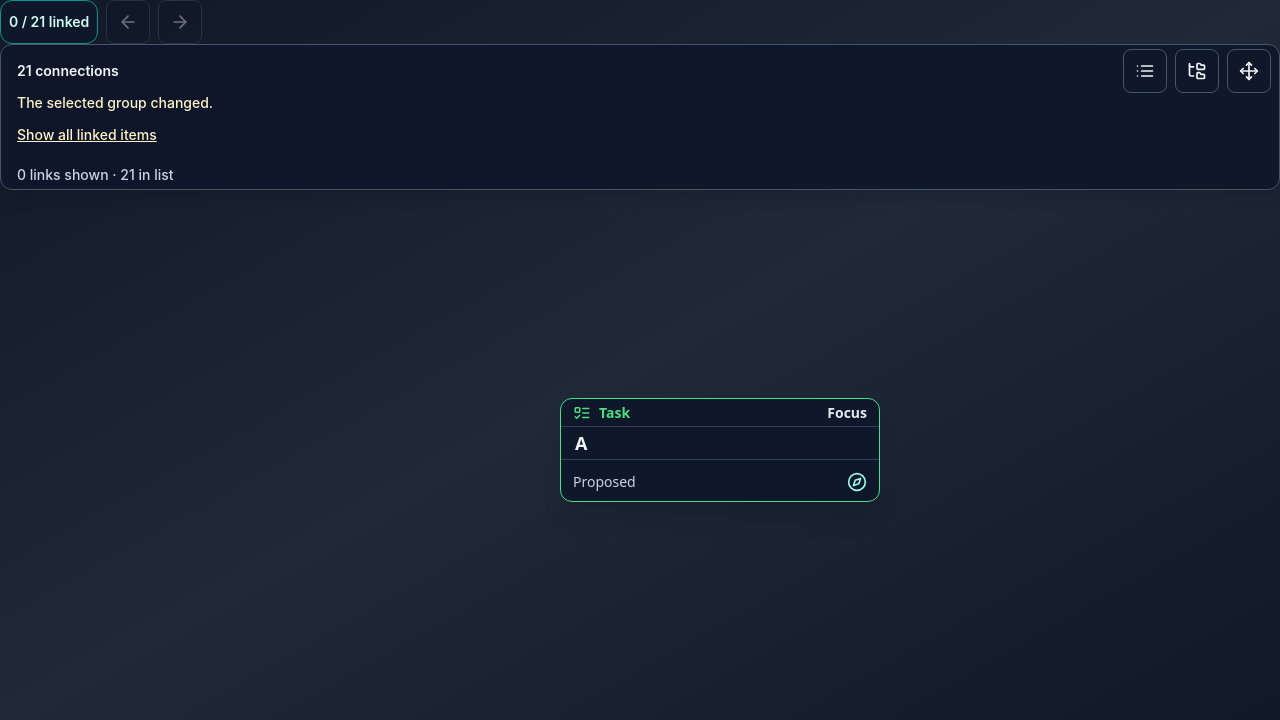
offers a direct reset after a persisted filter disappears and only one new group remains
The width and height of the screenshot is (1280, 720).
Expected: the label named "Linked item group" is shown, top-left (1175, 49), bottom-right (1219, 93)
Click the button "Show all linked items" at (87, 135), box top-left (17, 113), bottom-right (157, 157)
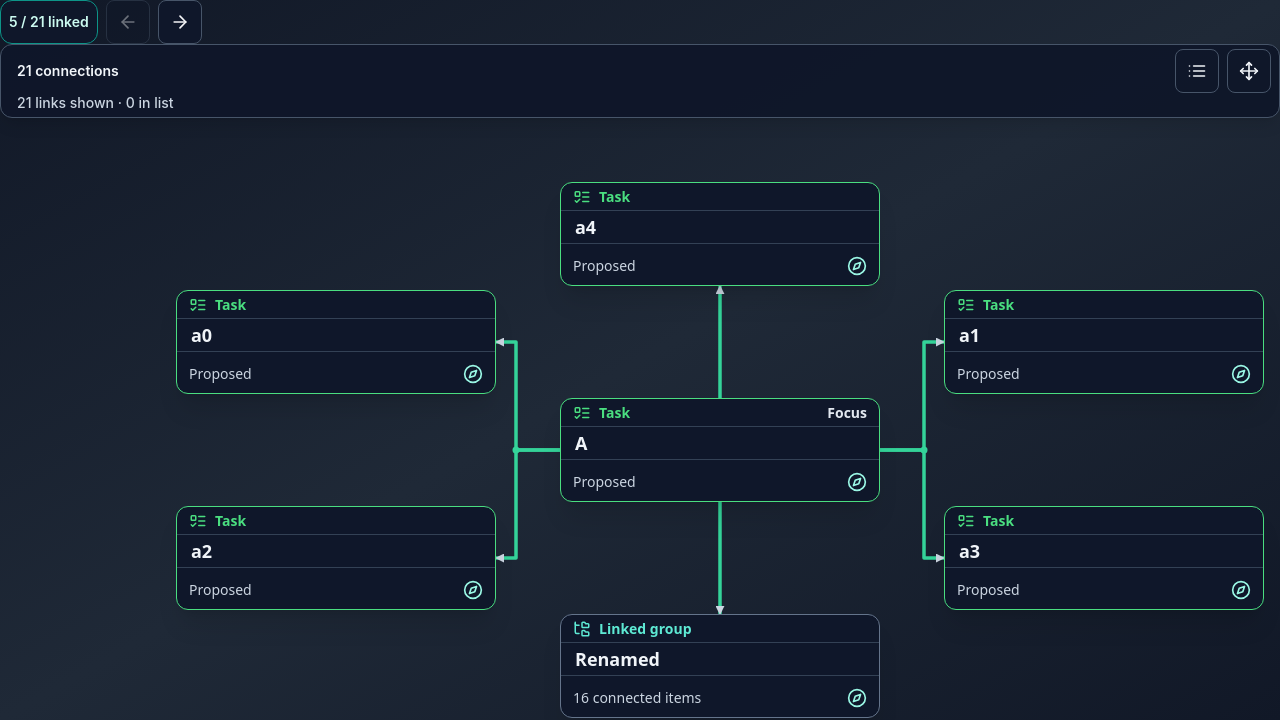
Now the button "Show all linked items" is gone
